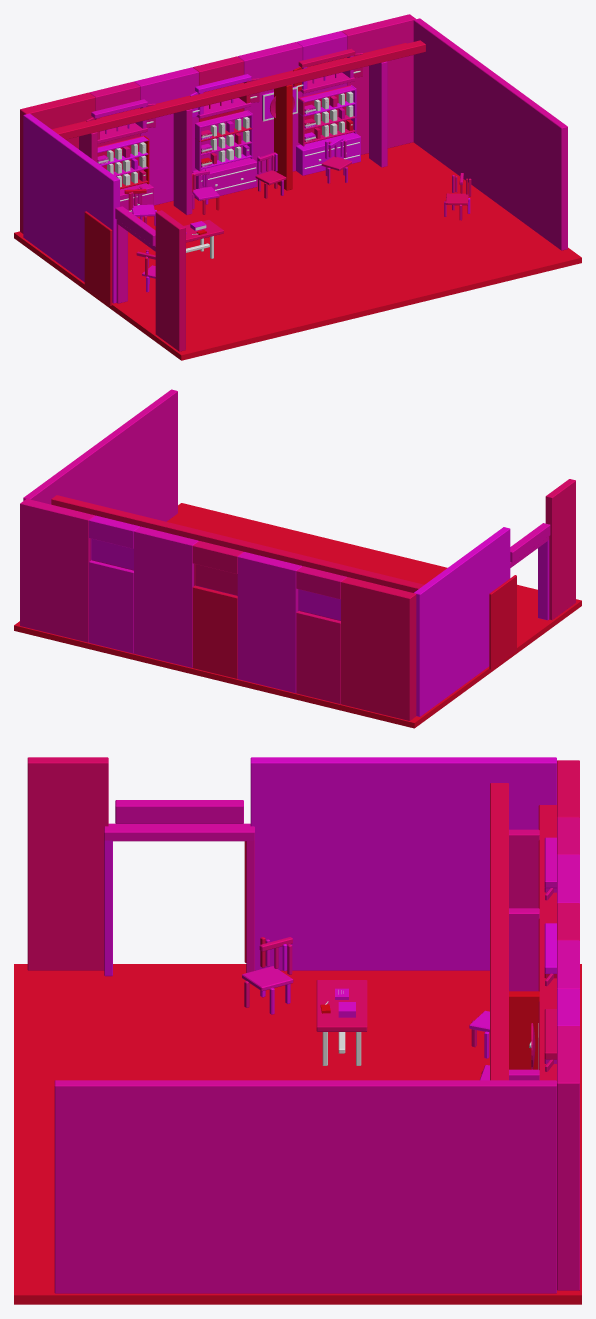
The model's file is court_chapter_06.glb.
The picture shows the model from 3 angles, top to bottom: view 1: azimuth 30°, elevation 25°; view 2: azimuth 150°, elevation 25°; view 3: azimuth 270°, elevation 25°; orthographic projection. The views are drawn at different scales.
Visible parts, largest first — view 1: Floor, WallRight, WallLeftRear, WallBackPier_end, LowCeilingBeam, WallLeftFront, WallBackPier_1, WallBackPier_2, OpenDoorLeaf, WallBackPier_0, PartitionPier_1, PartitionPier_3 (+27 smaller); view 2: Floor, WallLeftRear, WallRight, WallBackPier_0, WallBackPier_end, WallBackPier_1, WallBackPier_2, LowCeilingBeam, WallBackLow_1, WallBackLow_2, WallBackLow_0, WallLeftFront (+9 smaller); view 3: WallRight, Floor, WallLeftRear, WallLeftFront, WallBackPier_end, LowCeilingBeam, ClerestoryBand, DoorLintel, Desk_0, EntranceHeader, PartitionPier_1, PartitionPier_0 (+10 smaller).
Part boxes in pixels (x1=…): Floor: x1=14, y1=142, x2=581, y2=360; WallRight: x1=413, y1=18, x2=567, y2=250; WallLeftRear: x1=23, y1=113, x2=119, y2=303; WallBackPier_end: x1=341, y1=14, x2=415, y2=154; LowCeilingBeam: x1=53, y1=40, x2=425, y2=139; WallLeftFront: x1=155, y1=210, x2=185, y2=351; WallBackPier_1: x1=134, y1=67, x2=198, y2=205; WallBackPier_2: x1=238, y1=42, x2=302, y2=179; OpenDoorLeaf: x1=84, y1=211, x2=112, y2=305; WallBackPier_0: x1=20, y1=92, x2=95, y2=233; PartitionPier_1: x1=173, y1=109, x2=192, y2=214; PartitionPier_3: x1=369, y1=61, x2=387, y2=167; Floor: x1=14, y1=503, x2=581, y2=728; WallLeftRear: x1=414, y1=527, x2=510, y2=716; WallRight: x1=23, y1=389, x2=177, y2=521; WallBackPier_0: x1=341, y1=577, x2=416, y2=720; WallBackPier_end: x1=20, y1=499, x2=94, y2=642; WallBackPier_1: x1=237, y1=552, x2=302, y2=693; WallBackPier_2: x1=134, y1=526, x2=198, y2=667; LowCeilingBeam: x1=51, y1=495, x2=424, y2=592; WallBackLow_1: x1=192, y1=585, x2=237, y2=678; WallBackLow_2: x1=89, y1=560, x2=133, y2=653; WallBackLow_0: x1=296, y1=611, x2=340, y2=704; WallLeftFront: x1=545, y1=479, x2=575, y2=619; WallRight: x1=54, y1=1080, x2=556, y2=1293; Floor: x1=14, y1=964, x2=581, y2=1304; WallLeftRear: x1=250, y1=757, x2=556, y2=970; WallLeftFront: x1=27, y1=757, x2=108, y2=970; WallBackPier_end: x1=557, y1=1026, x2=579, y2=1290; LowCeilingBeam: x1=490, y1=783, x2=508, y2=1080; ClerestoryBand: x1=538, y1=805, x2=556, y2=1080; DoorLintel: x1=115, y1=800, x2=243, y2=823; Desk_0: x1=316, y1=980, x2=367, y2=1065; EntranceHeader: x1=104, y1=823, x2=254, y2=841; PartitionPier_1: x1=509, y1=908, x2=539, y2=991; PartitionPier_0: x1=509, y1=829, x2=539, y2=908.
Bounding box in the file's own units: 11.7 × 3.55 × 8.4.
